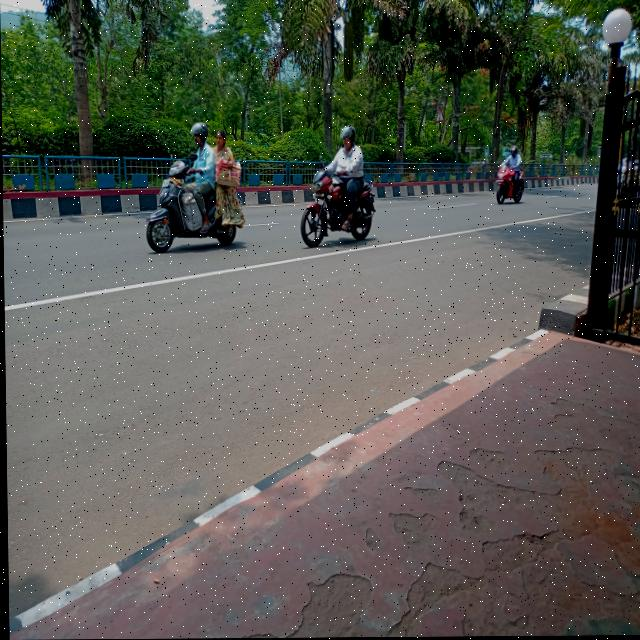bike: (140, 159, 236, 247), (296, 169, 384, 253), (485, 164, 543, 213)
